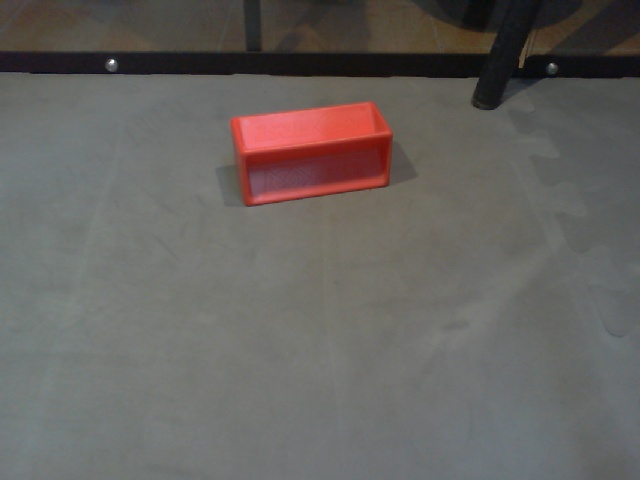RedSample: (228, 96, 395, 208)
